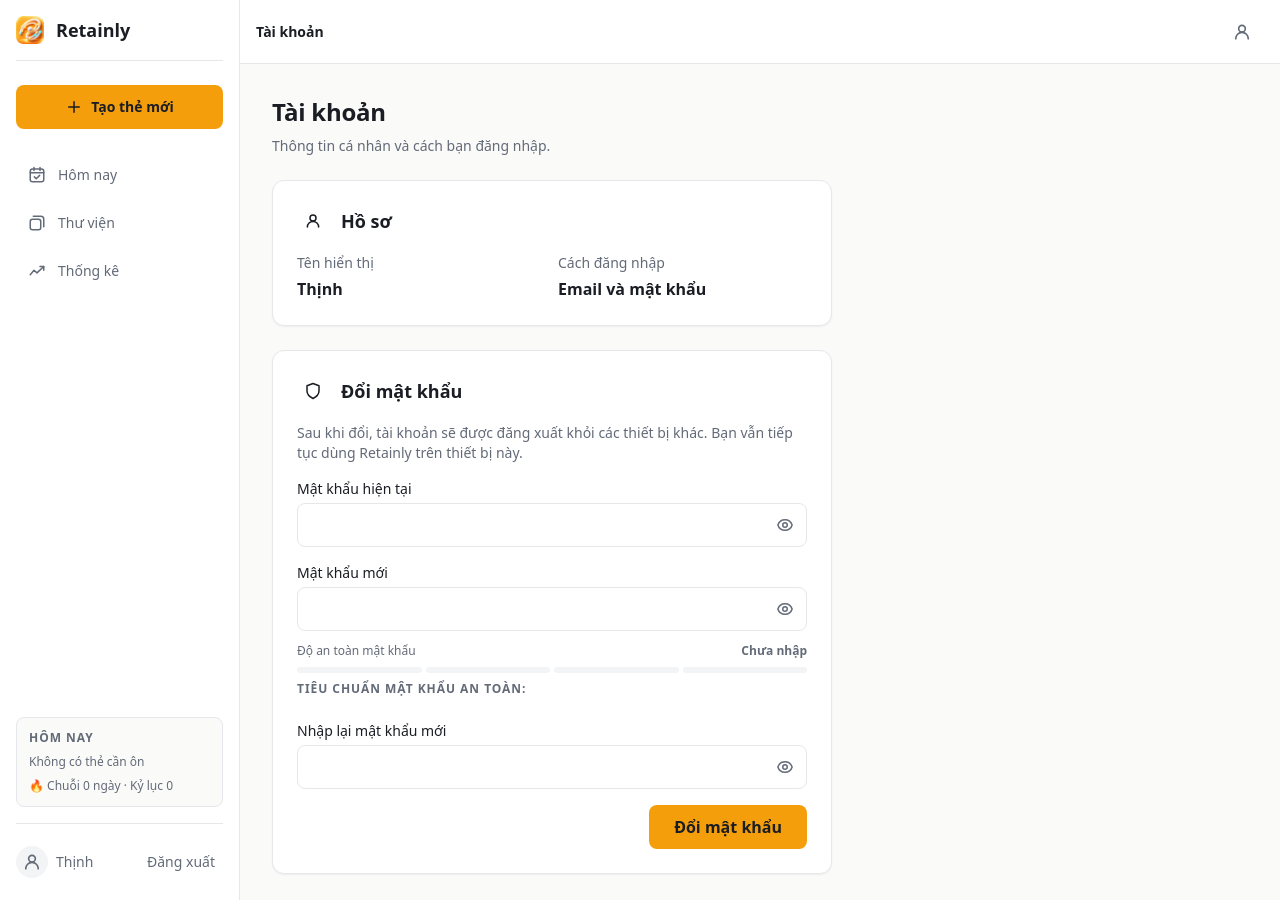
Test: E11-S1-T2 — màn Tài khoản › TC-076: đổi thành công — gửi đúng body, báo xong, xoá sạch form
Type "mat-khau-cu" into the password field labelled "Mật khẩu hiện tại" at x=552, y=525, box x1=297 y1=503 x2=807 y2=547
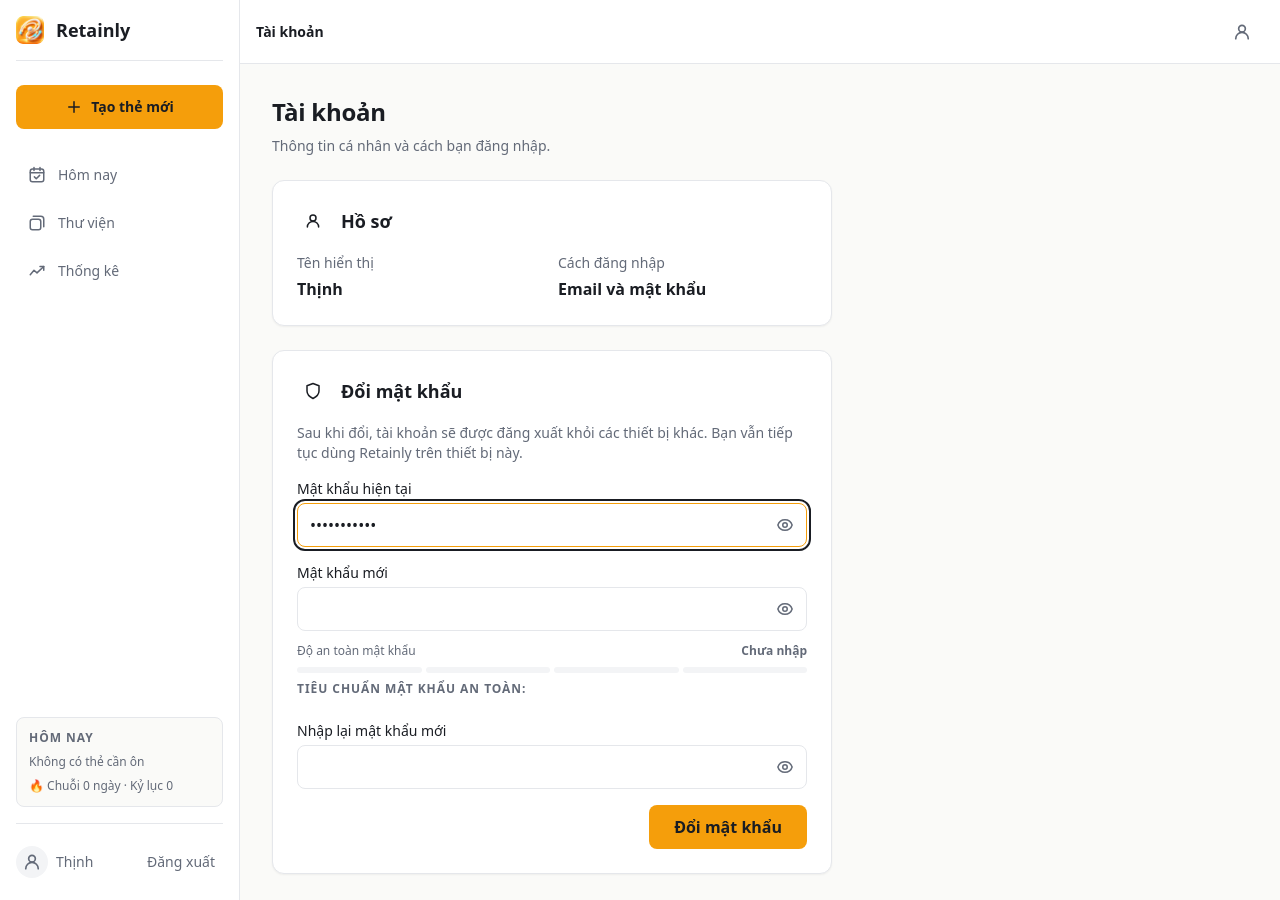
Type "Mat-khau-moi-3" into the password field labelled "Mật khẩu mới" at x=552, y=609, box x1=297 y1=587 x2=807 y2=631
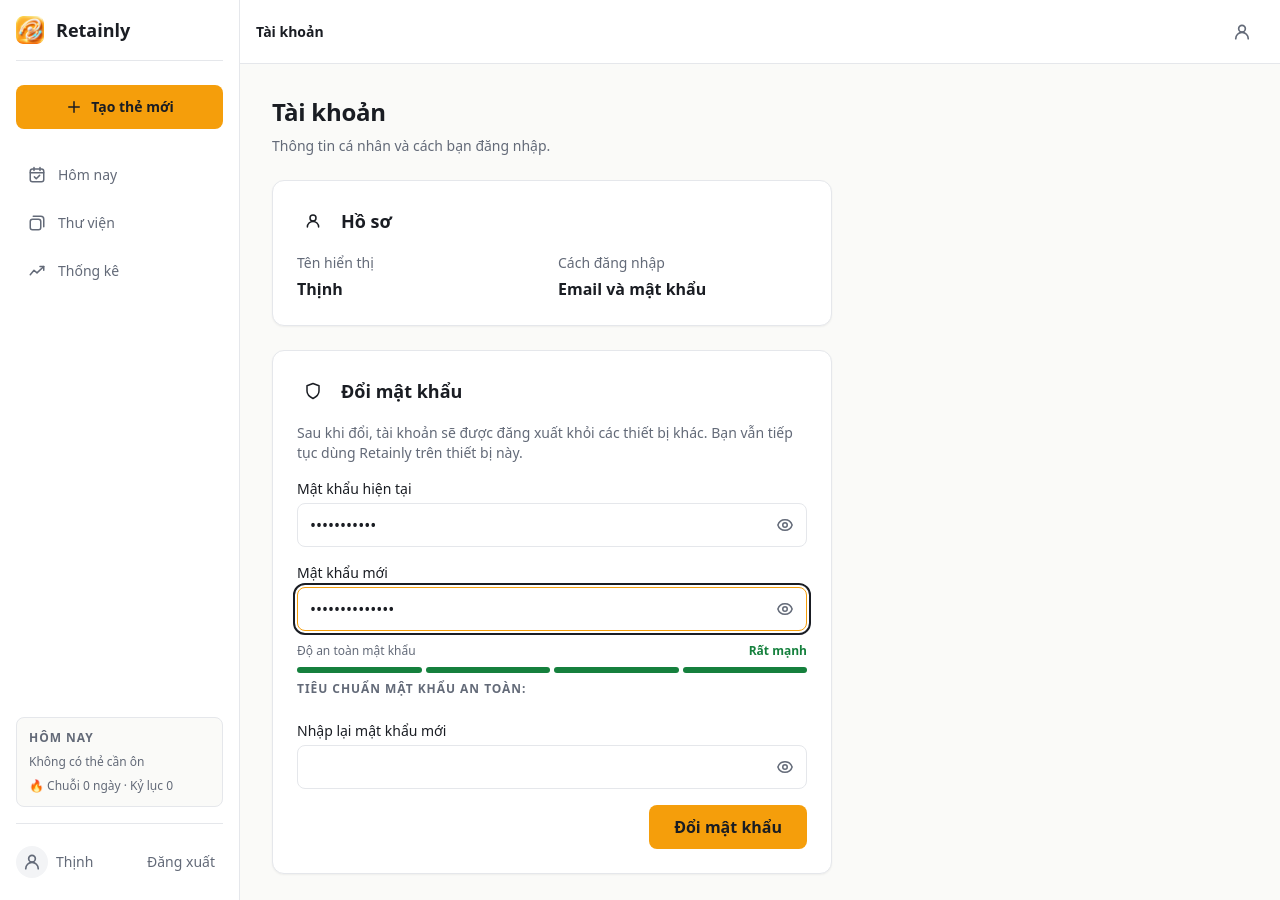
Type "Mat-khau-moi-3" into the password field labelled "Nhập lại mật khẩu mới" at x=552, y=767, box x1=297 y1=745 x2=807 y2=789
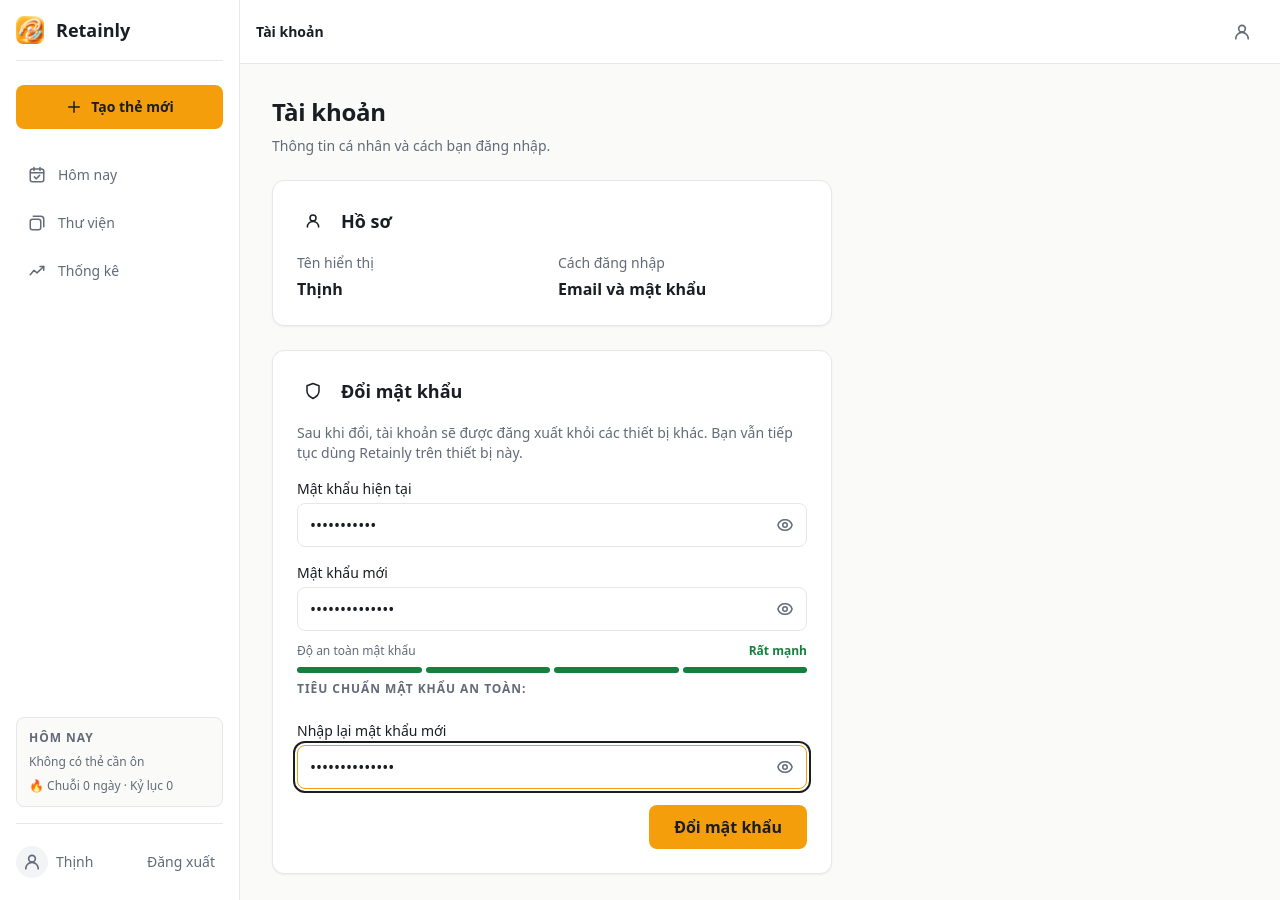
Click the button "Đổi mật khẩu" at x=728, y=827, box x1=649 y1=805 x2=807 y2=849
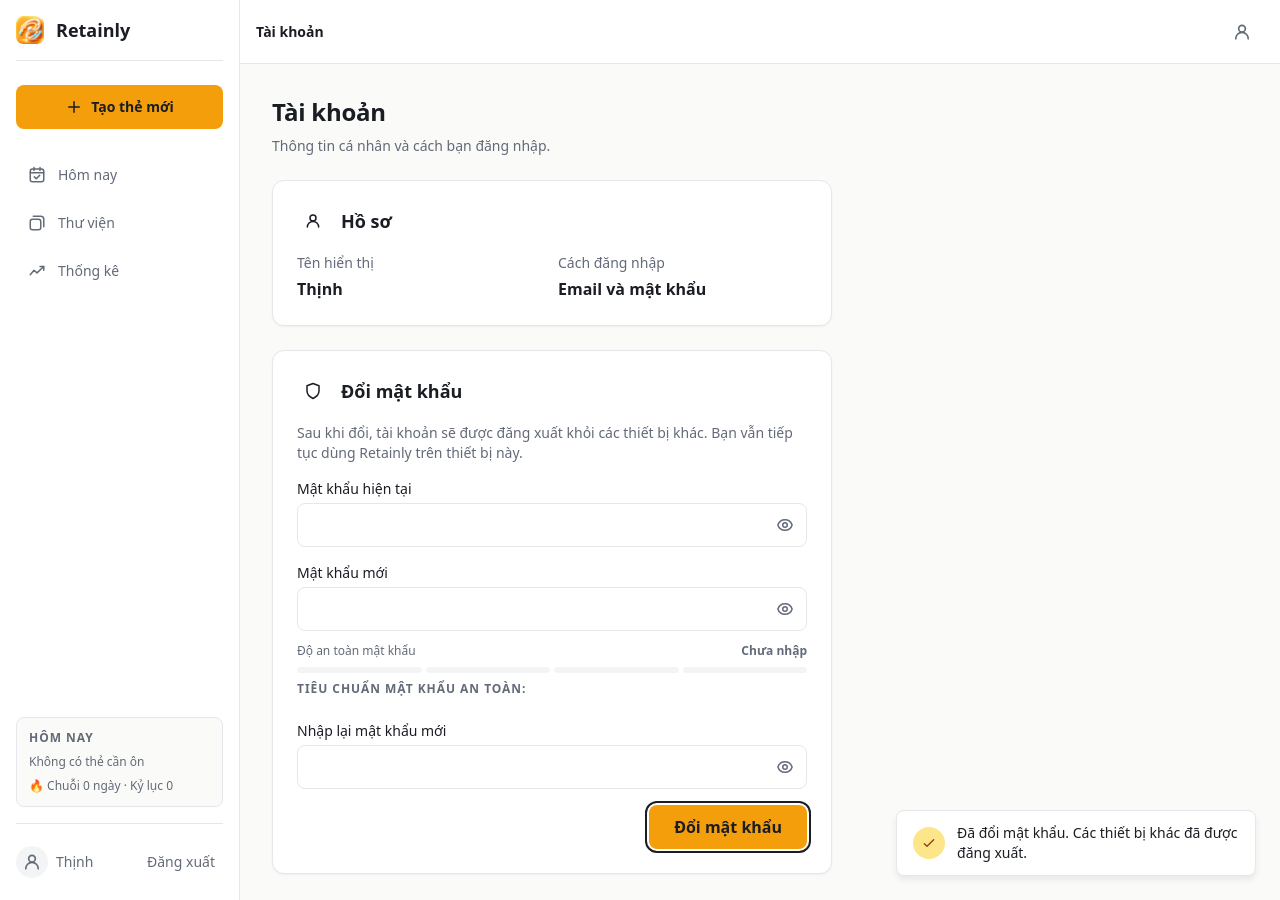
Result: the message reads "Đã đổi mật khẩu. Các thiết bị khác đã được đăng xuất." at x1=957 y1=823 x2=1238 y2=862
Result: the password field labelled "Mật khẩu hiện tại" is empty at x1=297 y1=503 x2=807 y2=547
Result: the password field labelled "Mật khẩu mới" is empty at x1=297 y1=587 x2=807 y2=631
